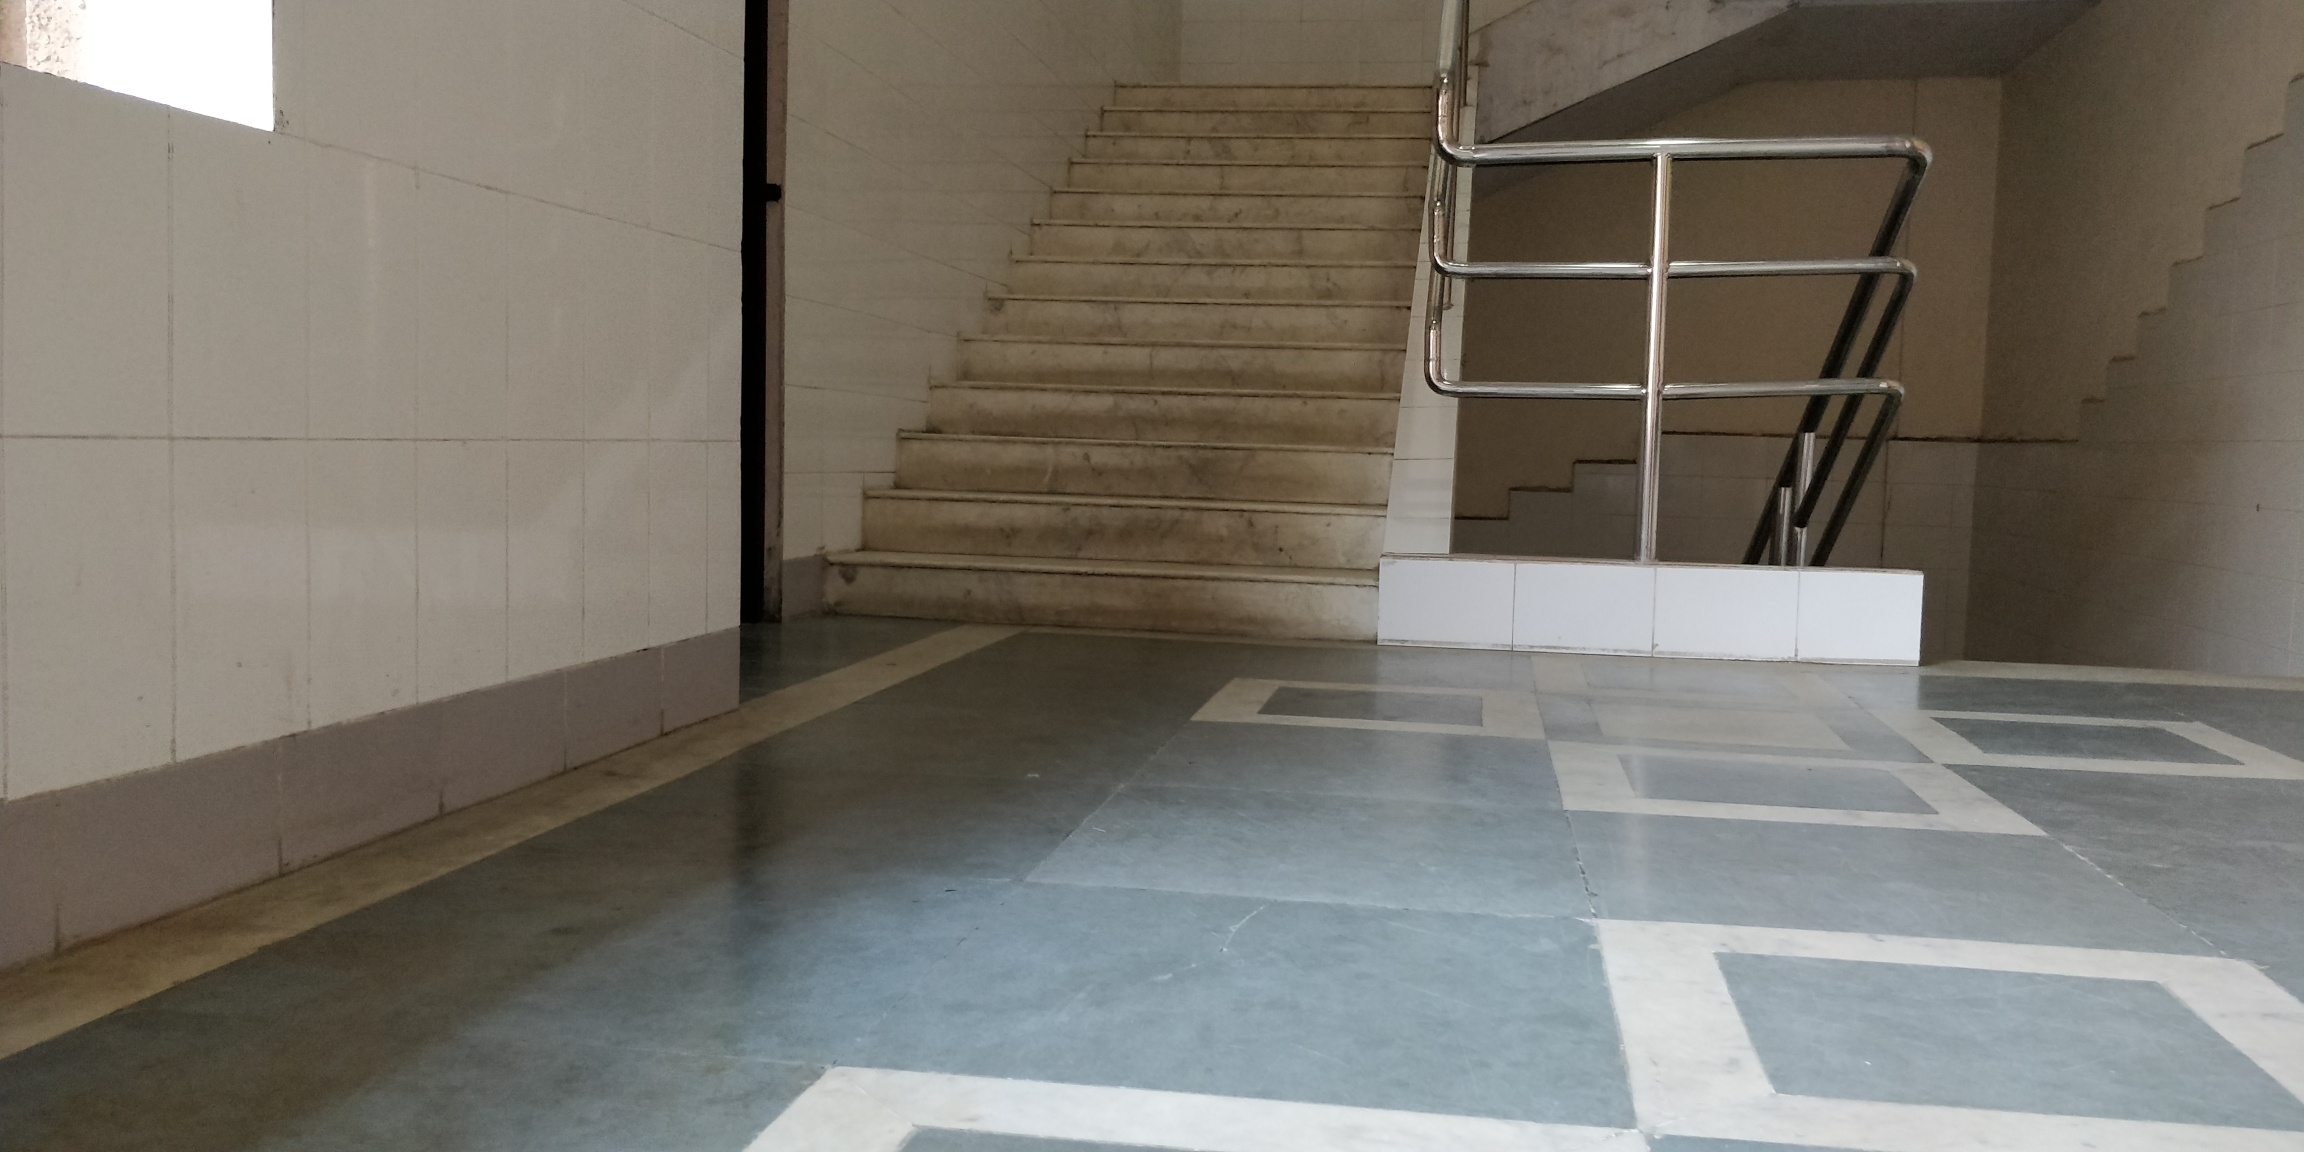stairs_up: (807, 68, 1436, 663)
